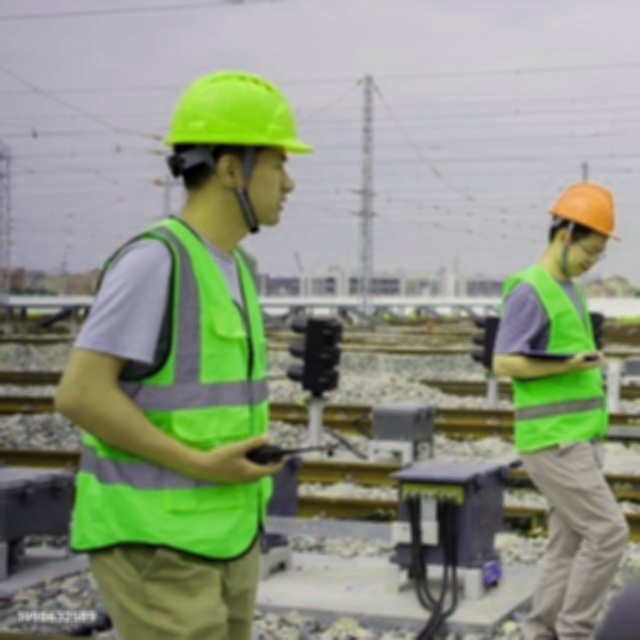Con_Casco: (165, 74, 313, 236), (552, 183, 624, 281)
Con_Chaleco: (75, 230, 279, 555), (500, 271, 612, 456)
